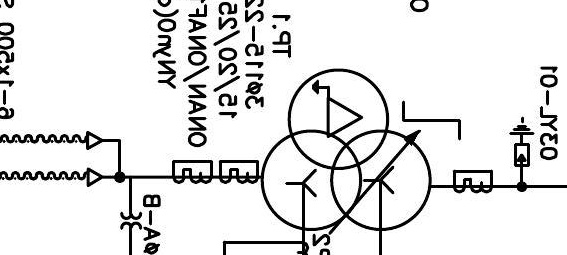11522_tx_ynyn0d1: (259, 67, 433, 232)
115_la: (509, 116, 535, 168)
terminator_double: (86, 130, 122, 188)
